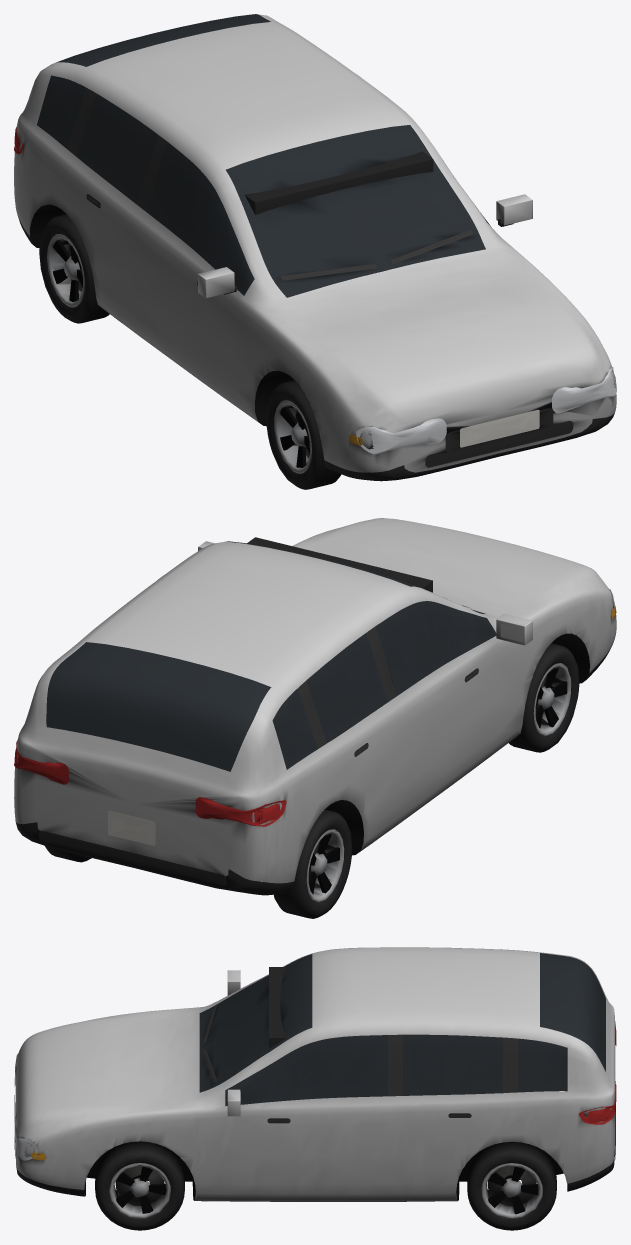
File: car-hatch-v1.glb
The picture shows the model from 3 angles, top to bottom: view 1: azimuth 30°, elevation 25°; view 2: azimuth 150°, elevation 25°; view 3: azimuth 270°, elevation 25°; orthographic projection. The views are drawn at different scales.
Visible parts, largest first — view 1: hatch; view 2: hatch; view 3: hatch.
Part boxes in pixels (x1,y1,x2,y2): hatch: (14, 14, 616, 489); hatch: (14, 518, 616, 918); hatch: (14, 947, 616, 1230).
Bounding box in the file's own units: 2.14 × 1.53 × 4.17.
